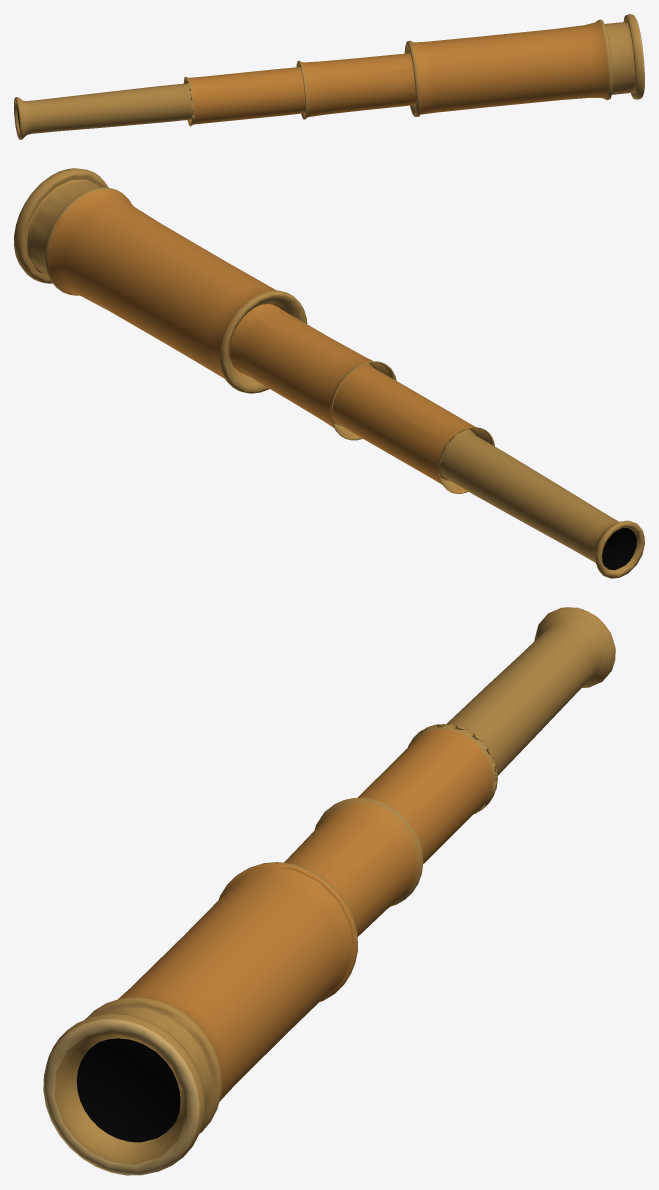
File: TelescopeSimpler.fbx
3 renders of one model, top to bottom at view 1: azimuth 30°, elevation 25°; view 2: azimuth 150°, elevation 25°; view 3: azimuth 270°, elevation 25°, orthographic. The views are drawn at different scales.
Visible parts, largest first — view 1: Cylinder; view 2: Cylinder; view 3: Cylinder.
Part boxes in pixels (x1=…): Cylinder: x1=14, y1=14, x2=644, y2=139; Cylinder: x1=14, y1=168, x2=644, y2=578; Cylinder: x1=43, y1=607, x2=615, y2=1175.
Bounding box in the file's own units: 296 × 43.83 × 139.
